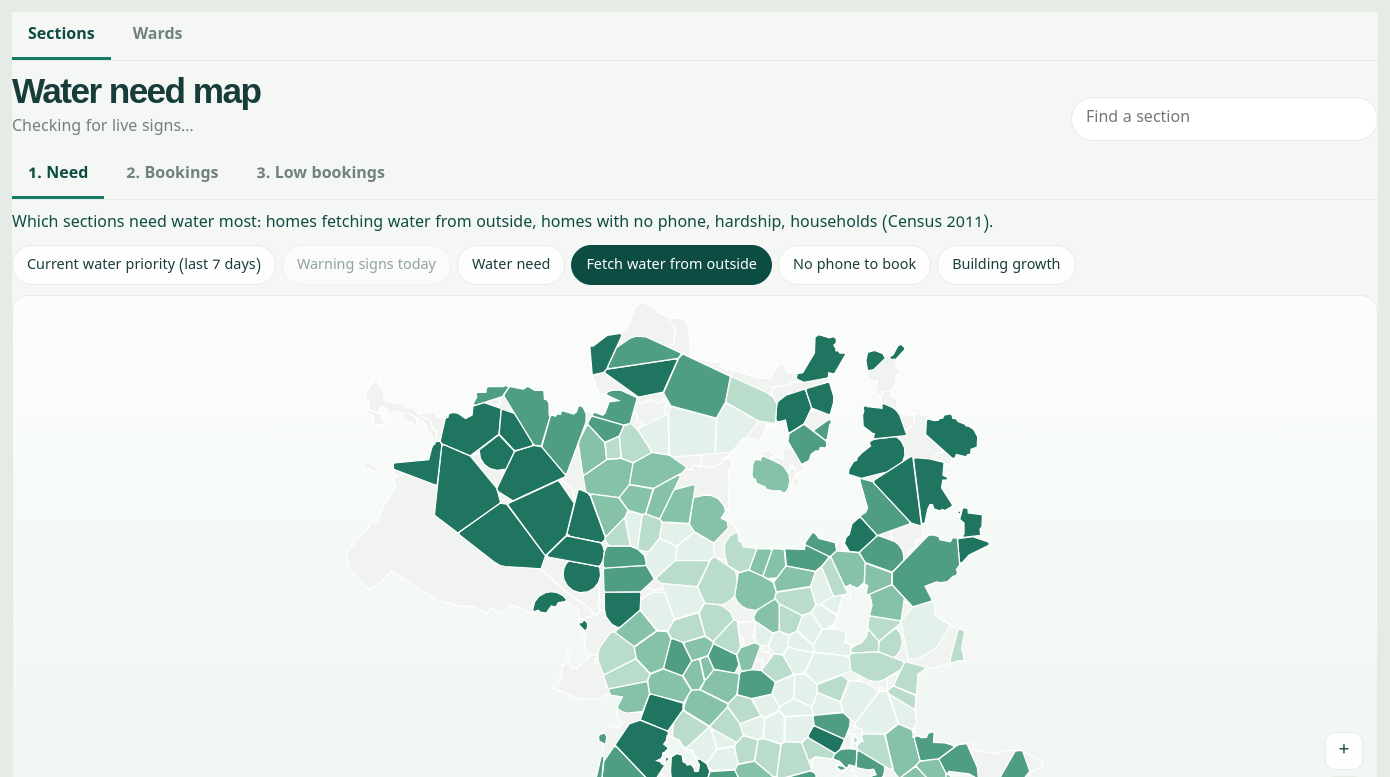
it: EvidenceExperience › falls back to saved data on a 401 and asks for sign-in
Click the tab "Wards": (158, 36) x1=117 y1=12 x2=198 y2=60
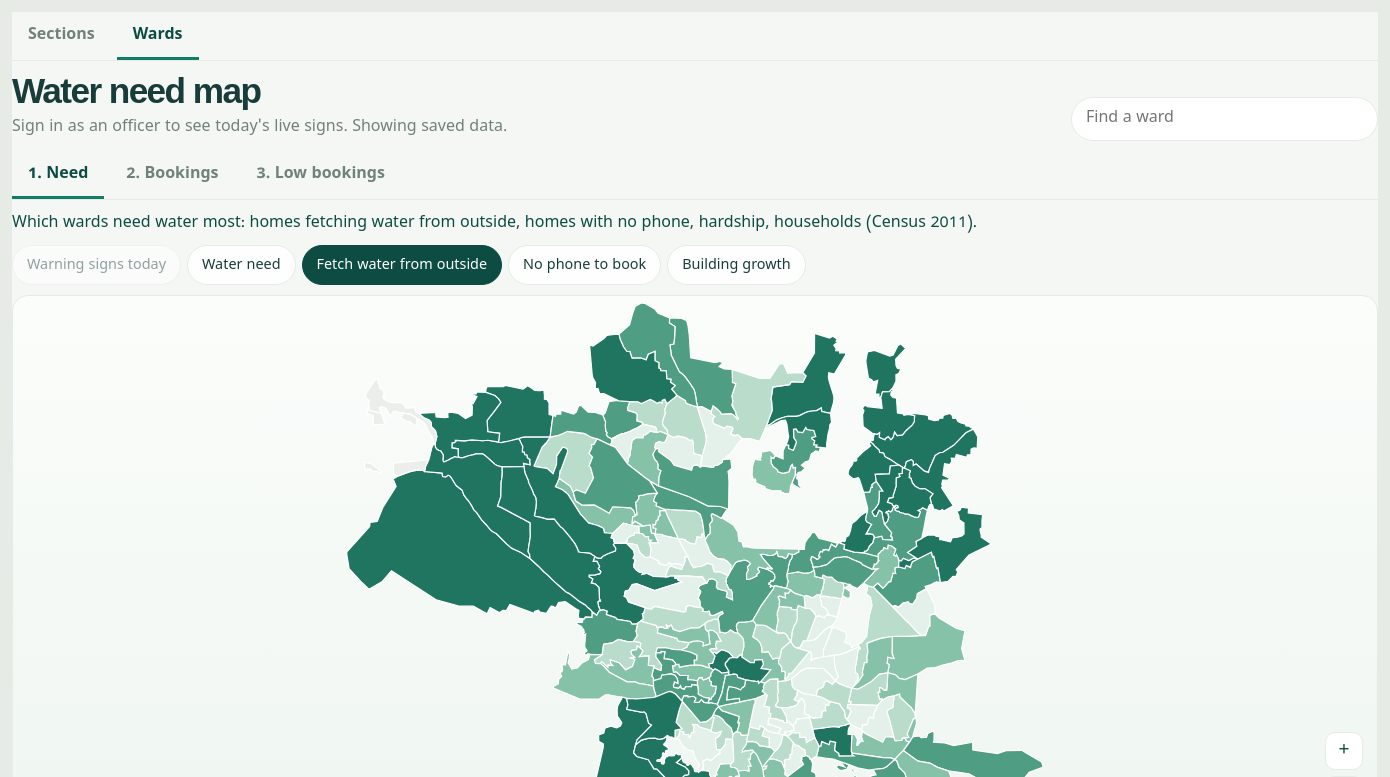
Now the text "Sign in as an officer" is shown, box x1=12 y1=117 x2=507 y2=139
